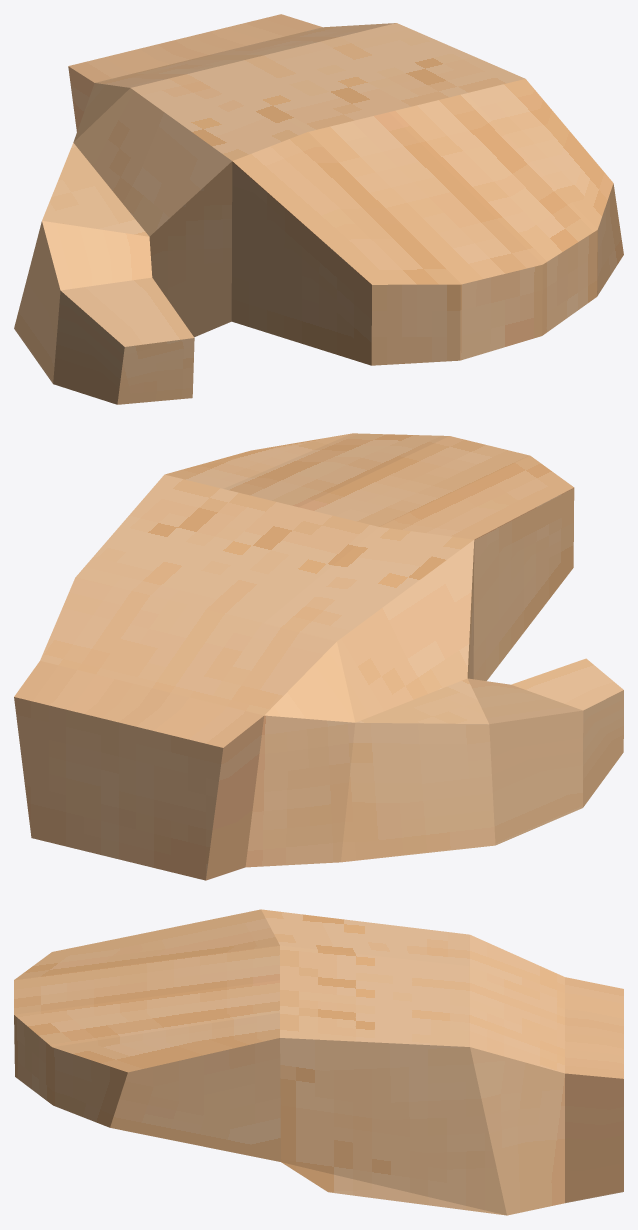
The model's file is mano_izquierda_abierta.fbx.
3 views of the same model, one above another, from view 1: azimuth 30°, elevation 25°; view 2: azimuth 150°, elevation 25°; view 3: azimuth 270°, elevation 25° (orthographic). The views are drawn at different scales.
Visible parts, largest first — view 1: cuboid; view 2: cuboid; view 3: cuboid.
Part boxes in pixels (x1,y1,x2,y2): cuboid: (14, 14, 623, 404); cuboid: (14, 433, 623, 880); cuboid: (14, 909, 623, 1215).
Size of the model in its own units: 148 by 68.75 by 201.
Materials: 1 (1 with a texture image).
